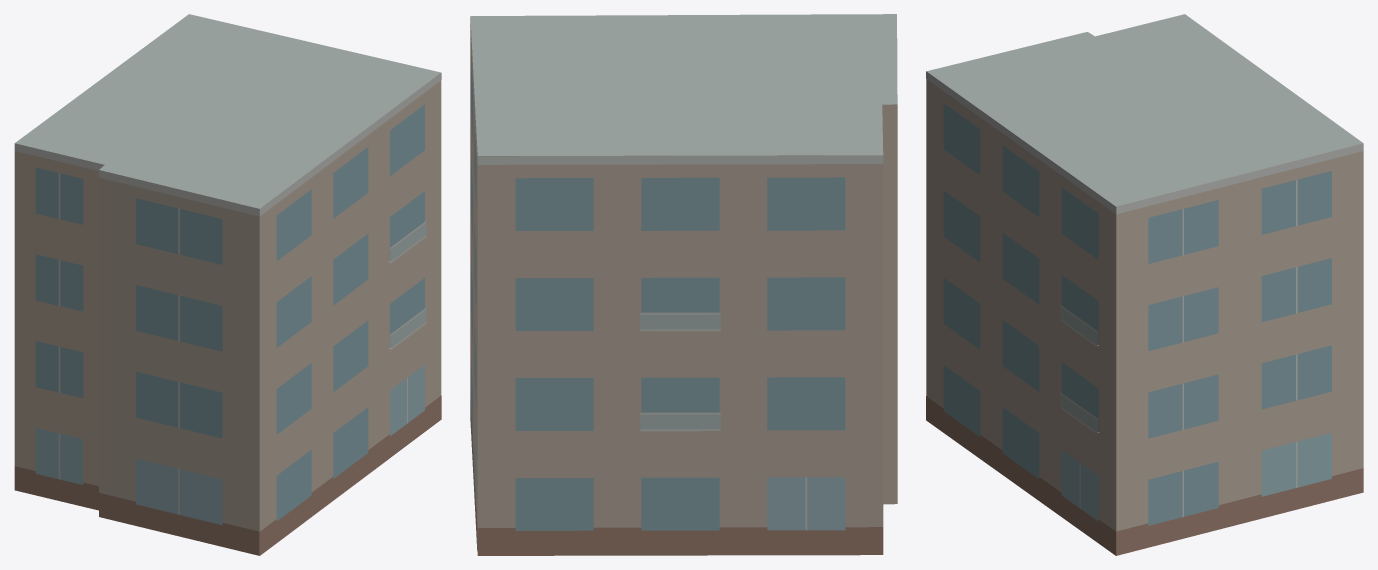
The model's file is survey-upis-32911148.glb.
The picture shows the model from 3 angles, left to right: view 1: azimuth 30°, elevation 25°; view 2: azimuth 150°, elevation 25°; view 3: azimuth 270°, elevation 25°; orthographic projection. The views are drawn at different scales.
Parts seen in each view (by area): view 1: survey-upis-32911148.tmp; view 2: survey-upis-32911148.tmp; view 3: survey-upis-32911148.tmp.
Part boxes in pixels (x1,y1,x2,y2): survey-upis-32911148.tmp: [14, 14, 441, 555]; survey-upis-32911148.tmp: [470, 14, 897, 555]; survey-upis-32911148.tmp: [926, 14, 1363, 555].
Size of the model in its own units: 13.15 by 11.1 by 12.61.
